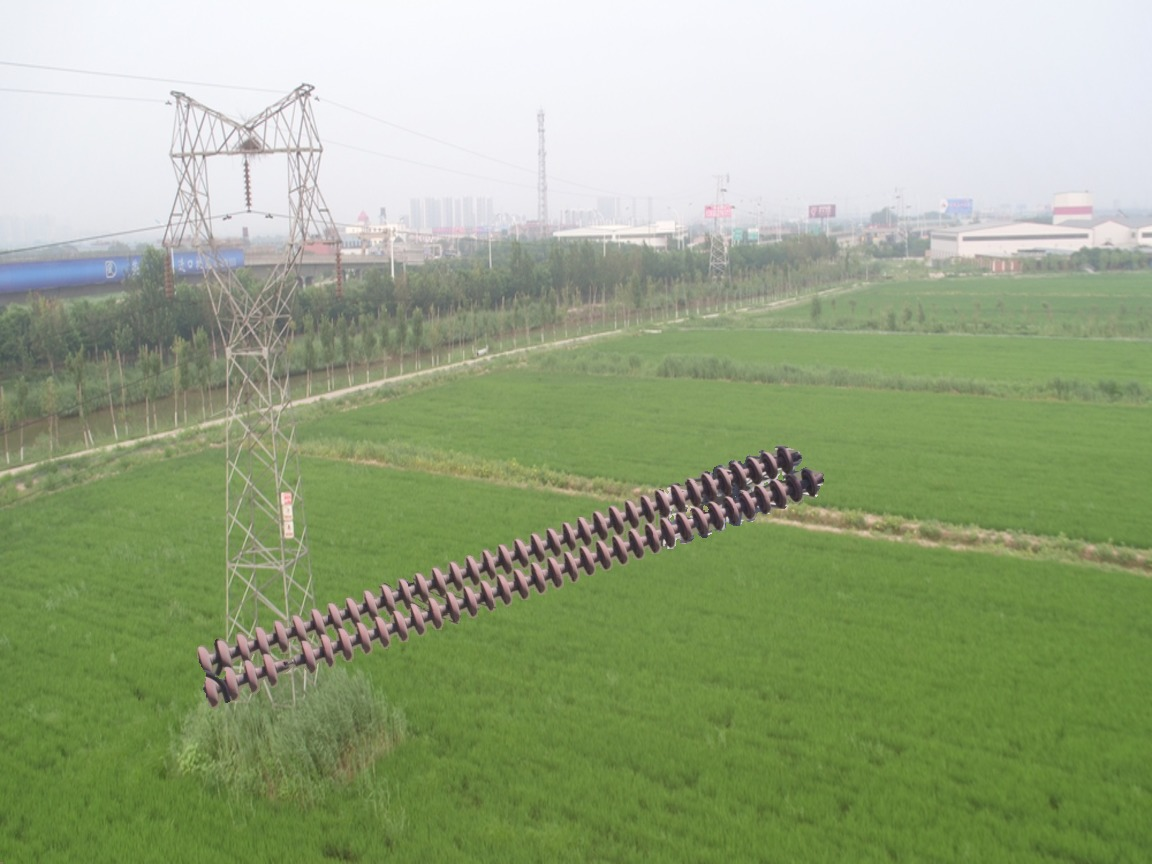defect: (257, 640, 323, 688)
